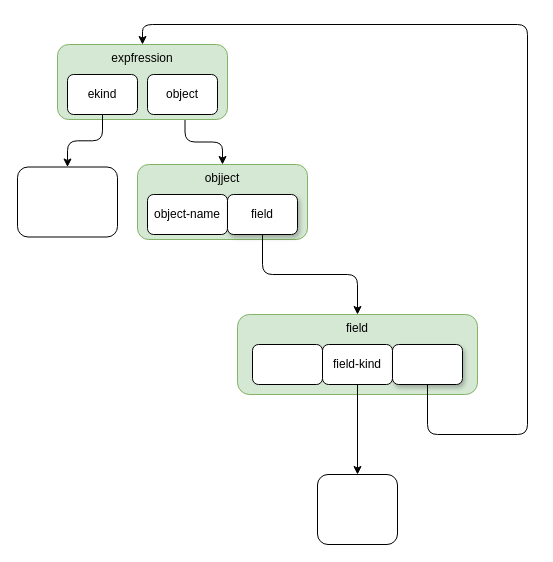
The diagram is 553 pixels wide and 562 high, and some of its shapes have lost their labels. The centre of each missing label's shape, as x and y in pixels:
actual-parameter: the point at 428,366
expression-kind | 'true' | 'false' '| objject': the point at 67,201
field-kind | 'simple | 'collection': the point at 357,509
field-name: the point at 287,364
